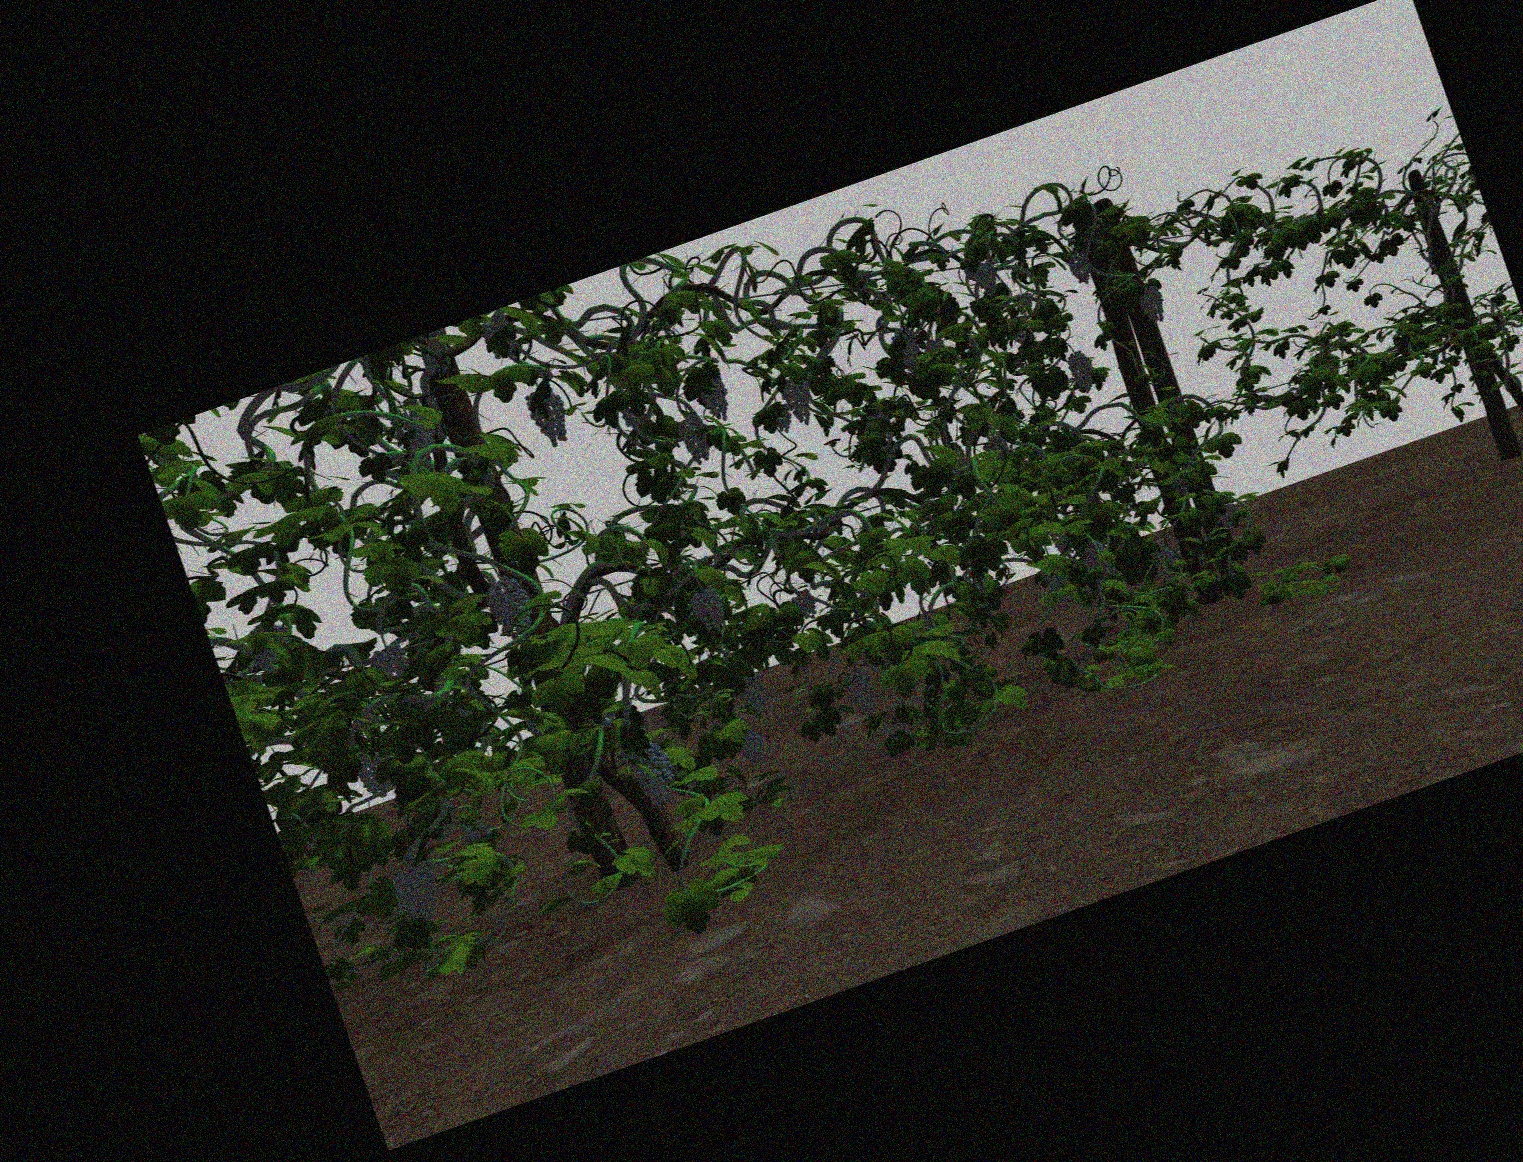grape: (394, 862, 441, 922), (632, 745, 674, 808), (491, 575, 530, 633), (530, 388, 567, 446), (359, 749, 389, 796), (783, 377, 813, 425), (693, 586, 724, 631), (738, 673, 769, 718), (371, 644, 408, 681), (849, 668, 876, 716), (682, 415, 709, 464), (702, 376, 730, 419), (969, 259, 998, 297), (893, 330, 920, 369), (1086, 539, 1112, 579), (1070, 349, 1093, 391), (1043, 564, 1069, 601), (740, 730, 765, 767), (1141, 284, 1163, 322), (792, 588, 819, 619), (1069, 250, 1091, 287), (1159, 549, 1179, 582), (1218, 503, 1240, 529)
